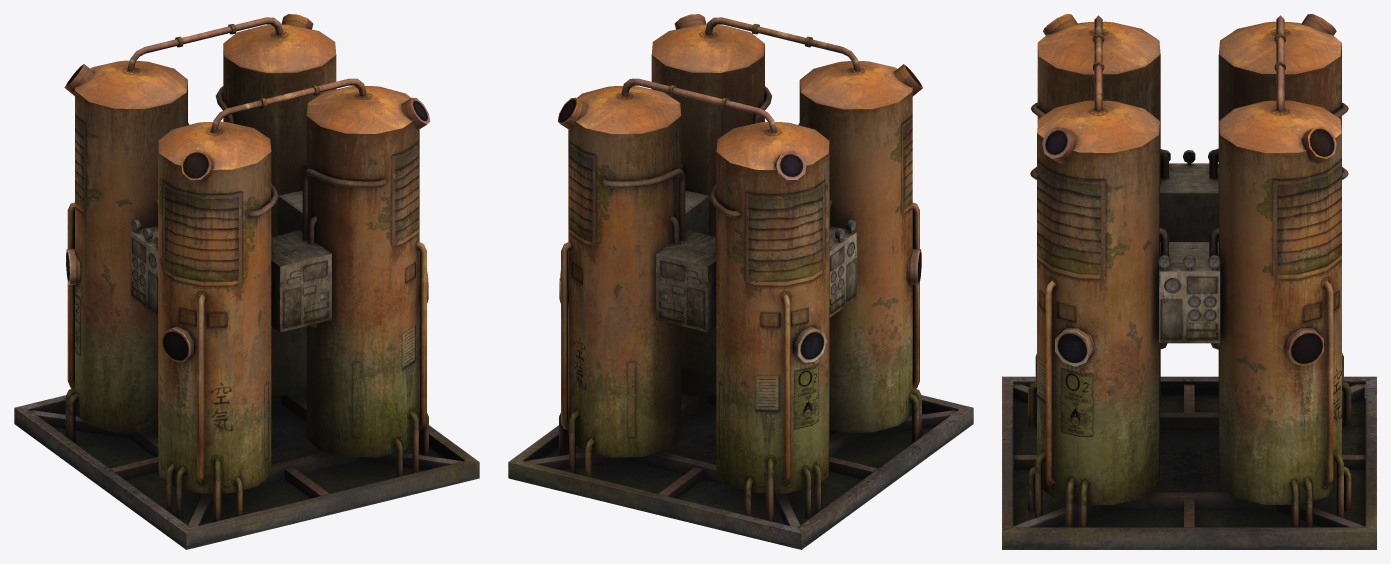
The model's file is oxygen_generator.DAE.
3 renders of one model, left to right at view 1: azimuth 30°, elevation 25°; view 2: azimuth 150°, elevation 25°; view 3: azimuth 270°, elevation 25°, orthographic. The views are drawn at different scales.
Parts seen in each view (by area): view 1: oxygen_generator; view 2: oxygen_generator; view 3: oxygen_generator.
Part boxes in pixels (x1,y1,x2,y2): oxygen_generator: (14,14,479,549); oxygen_generator: (508,14,973,549); oxygen_generator: (1002,14,1376,549).
Size of the model in its own units: 111 by 113 by 141.
